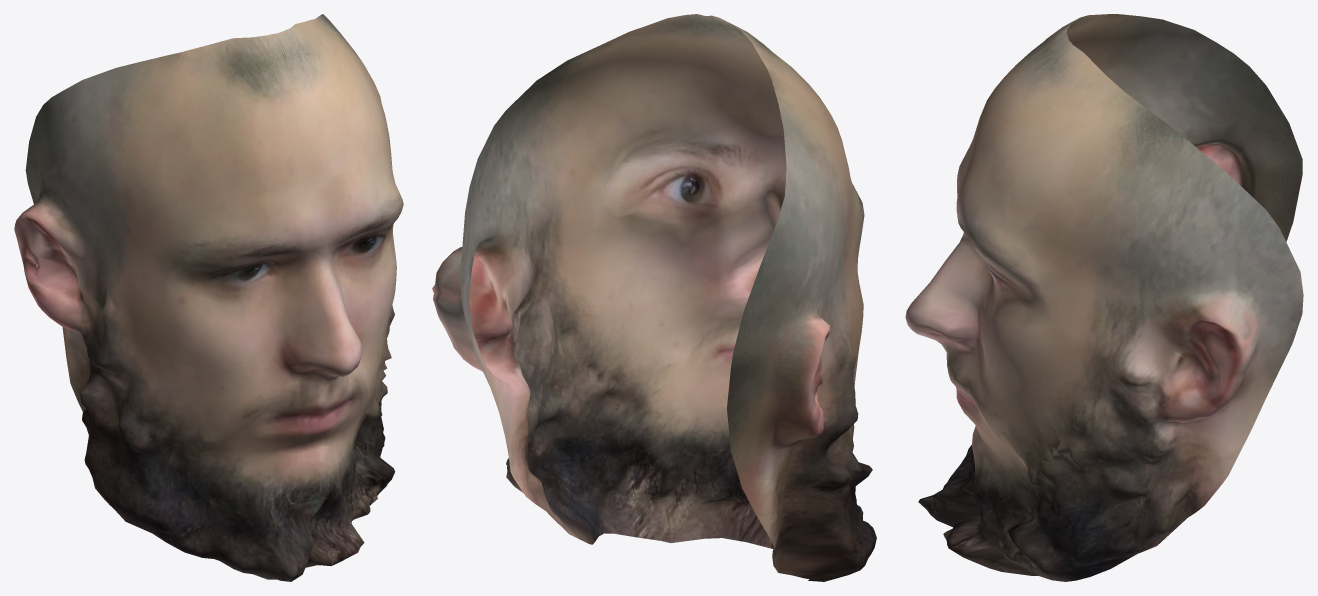
File: headScanLow.glb
3 views of the same model, side by side, from view 1: azimuth 30°, elevation 25°; view 2: azimuth 150°, elevation 25°; view 3: azimuth 270°, elevation 25° (orthographic). The views are drawn at different scales.
Visible parts, largest first — view 1: Node; view 2: Node; view 3: Node.
Boxes of the visible parts, x1,y1,x2,y2 form: Node: (14,14,403,581); Node: (432,14,876,581); Node: (905,14,1303,581).
Bounding box in the file's own units: 185 × 259 × 179.
1 material, 1 textured.
